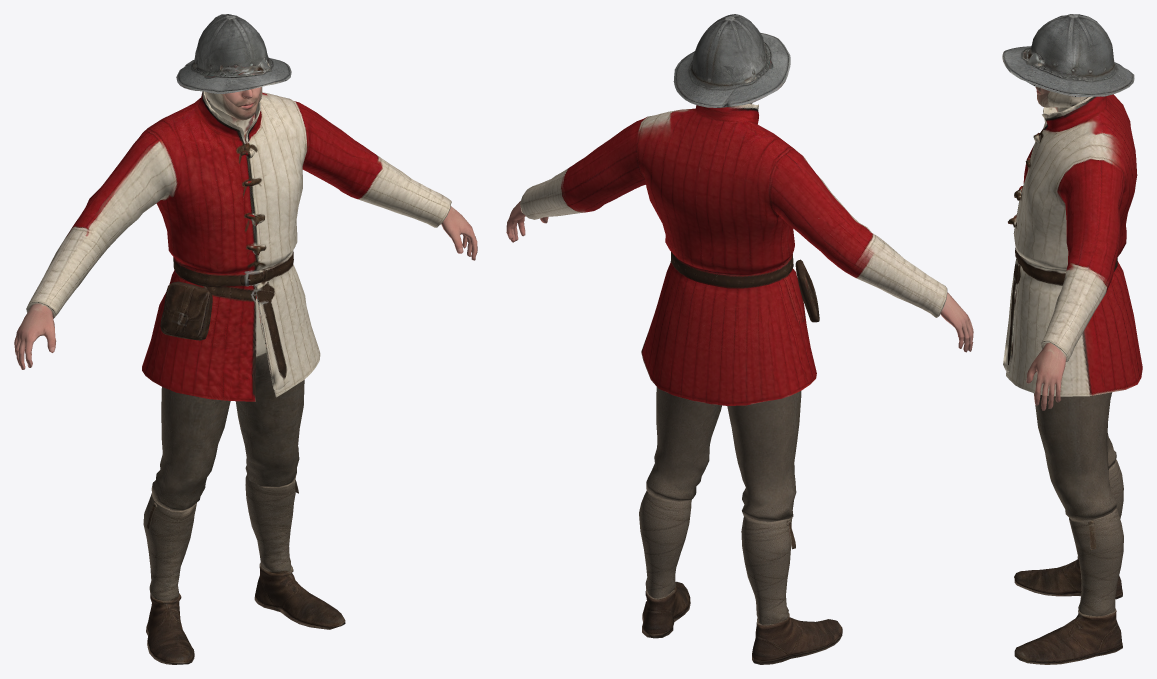
The model's file is Meshy_AI_model.glb.
The picture shows the model from 3 angles, left to right: view 1: azimuth 30°, elevation 25°; view 2: azimuth 150°, elevation 25°; view 3: azimuth 270°, elevation 25°; orthographic projection.
Bounding box in the file's own units: 0.7852 × 1 × 0.2107.
1 material, 1 textured.
